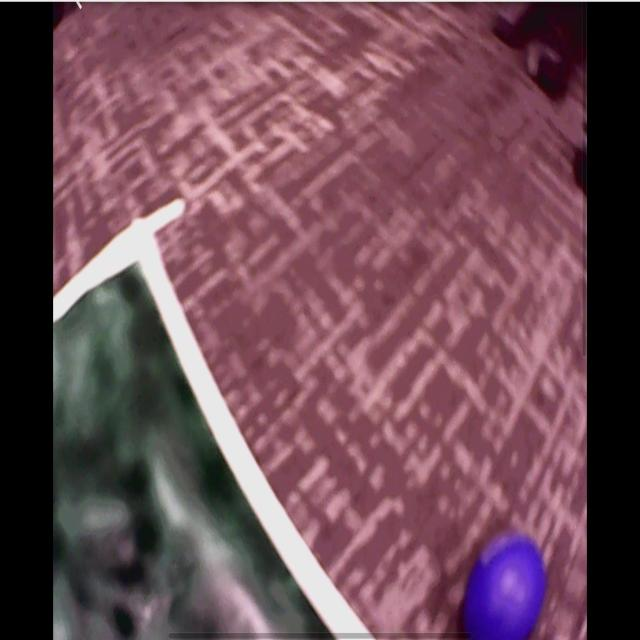ball: (462, 537, 546, 640)
